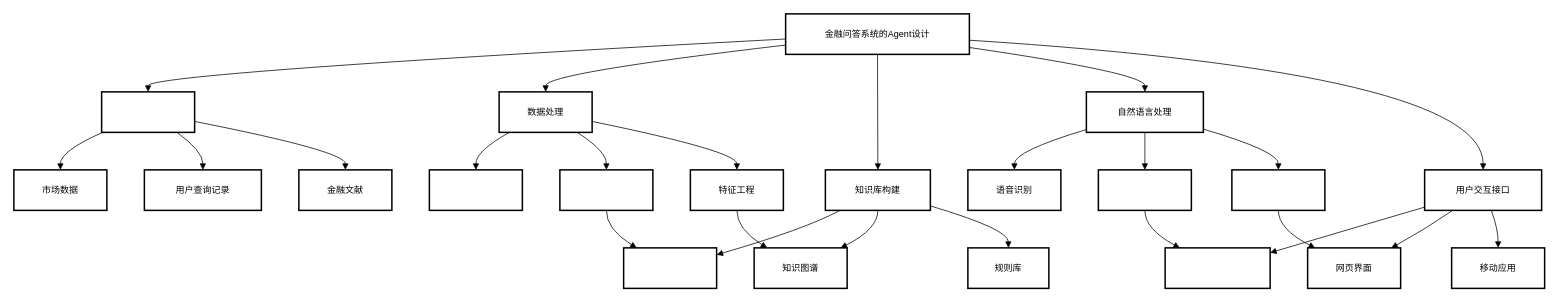
Some shapes in this 1558 by 302 pixel diagram are drawn without their labels. Here are the shapes that lost their labels. From the top down, the centre of each, then its label:
At [147,112]: "数据收集".
At [475,190]: "数据清洗".
At [606,190]: "数据分析".
At [1144,190]: "文本解析".
At [1278,190]: "意图识别".
At [669,268]: "文档管理".
At [1217,268]: "聊天机器人".
